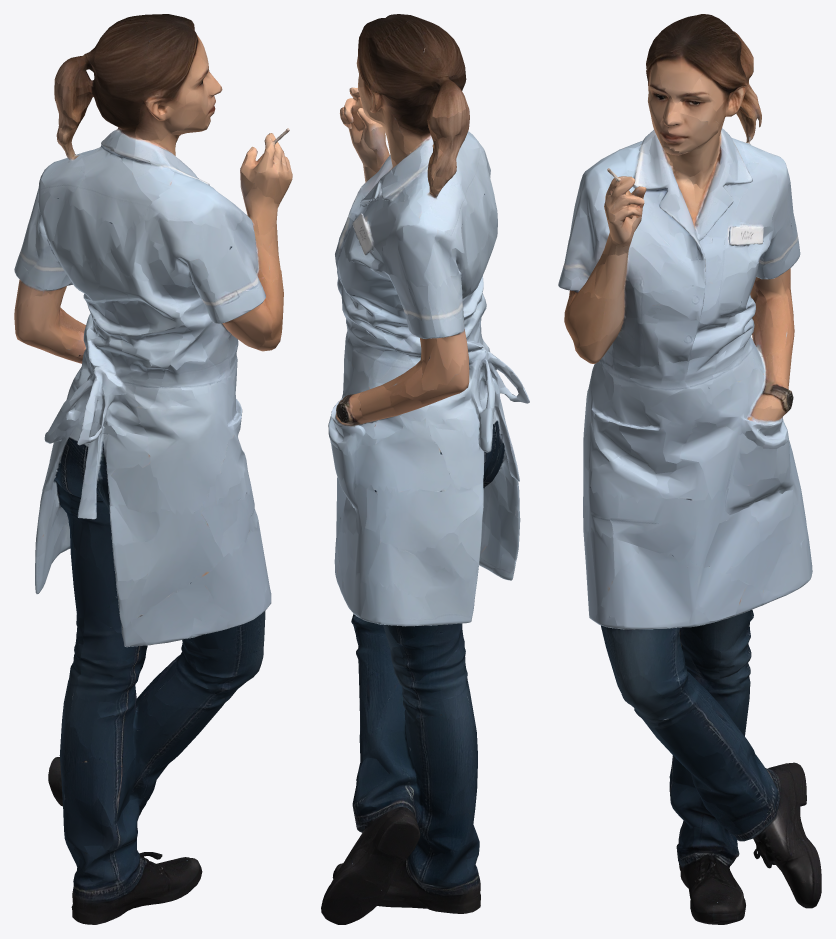
The model's file is sestricka_kouri.glb.
3 renders of one model, left to right at view 1: azimuth 30°, elevation 25°; view 2: azimuth 150°, elevation 25°; view 3: azimuth 270°, elevation 25°, orthographic.
Visible parts, largest first — view 1: sestricka_kouri; view 2: sestricka_kouri; view 3: sestricka_kouri.
Boxes of the visible parts, x1,y1,x2,y2 form: sestricka_kouri: (14, 14, 292, 924); sestricka_kouri: (321, 14, 529, 924); sestricka_kouri: (558, 14, 821, 924).
Size of the model in its own units: 0.4039 by 1.7 by 0.4598.
Materials: 1 (1 with a texture image).
